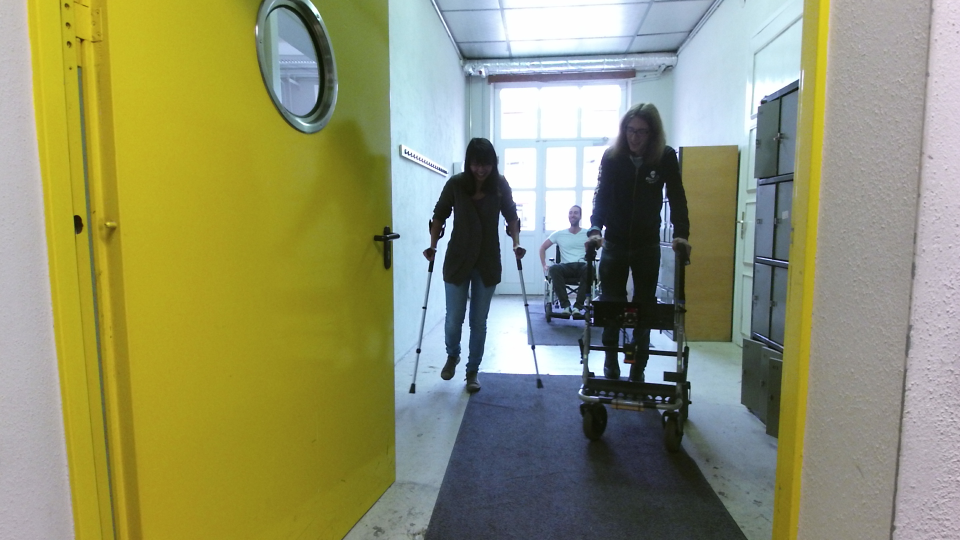crutches: (412, 133, 531, 397)
wheelchair: (539, 200, 605, 328)
